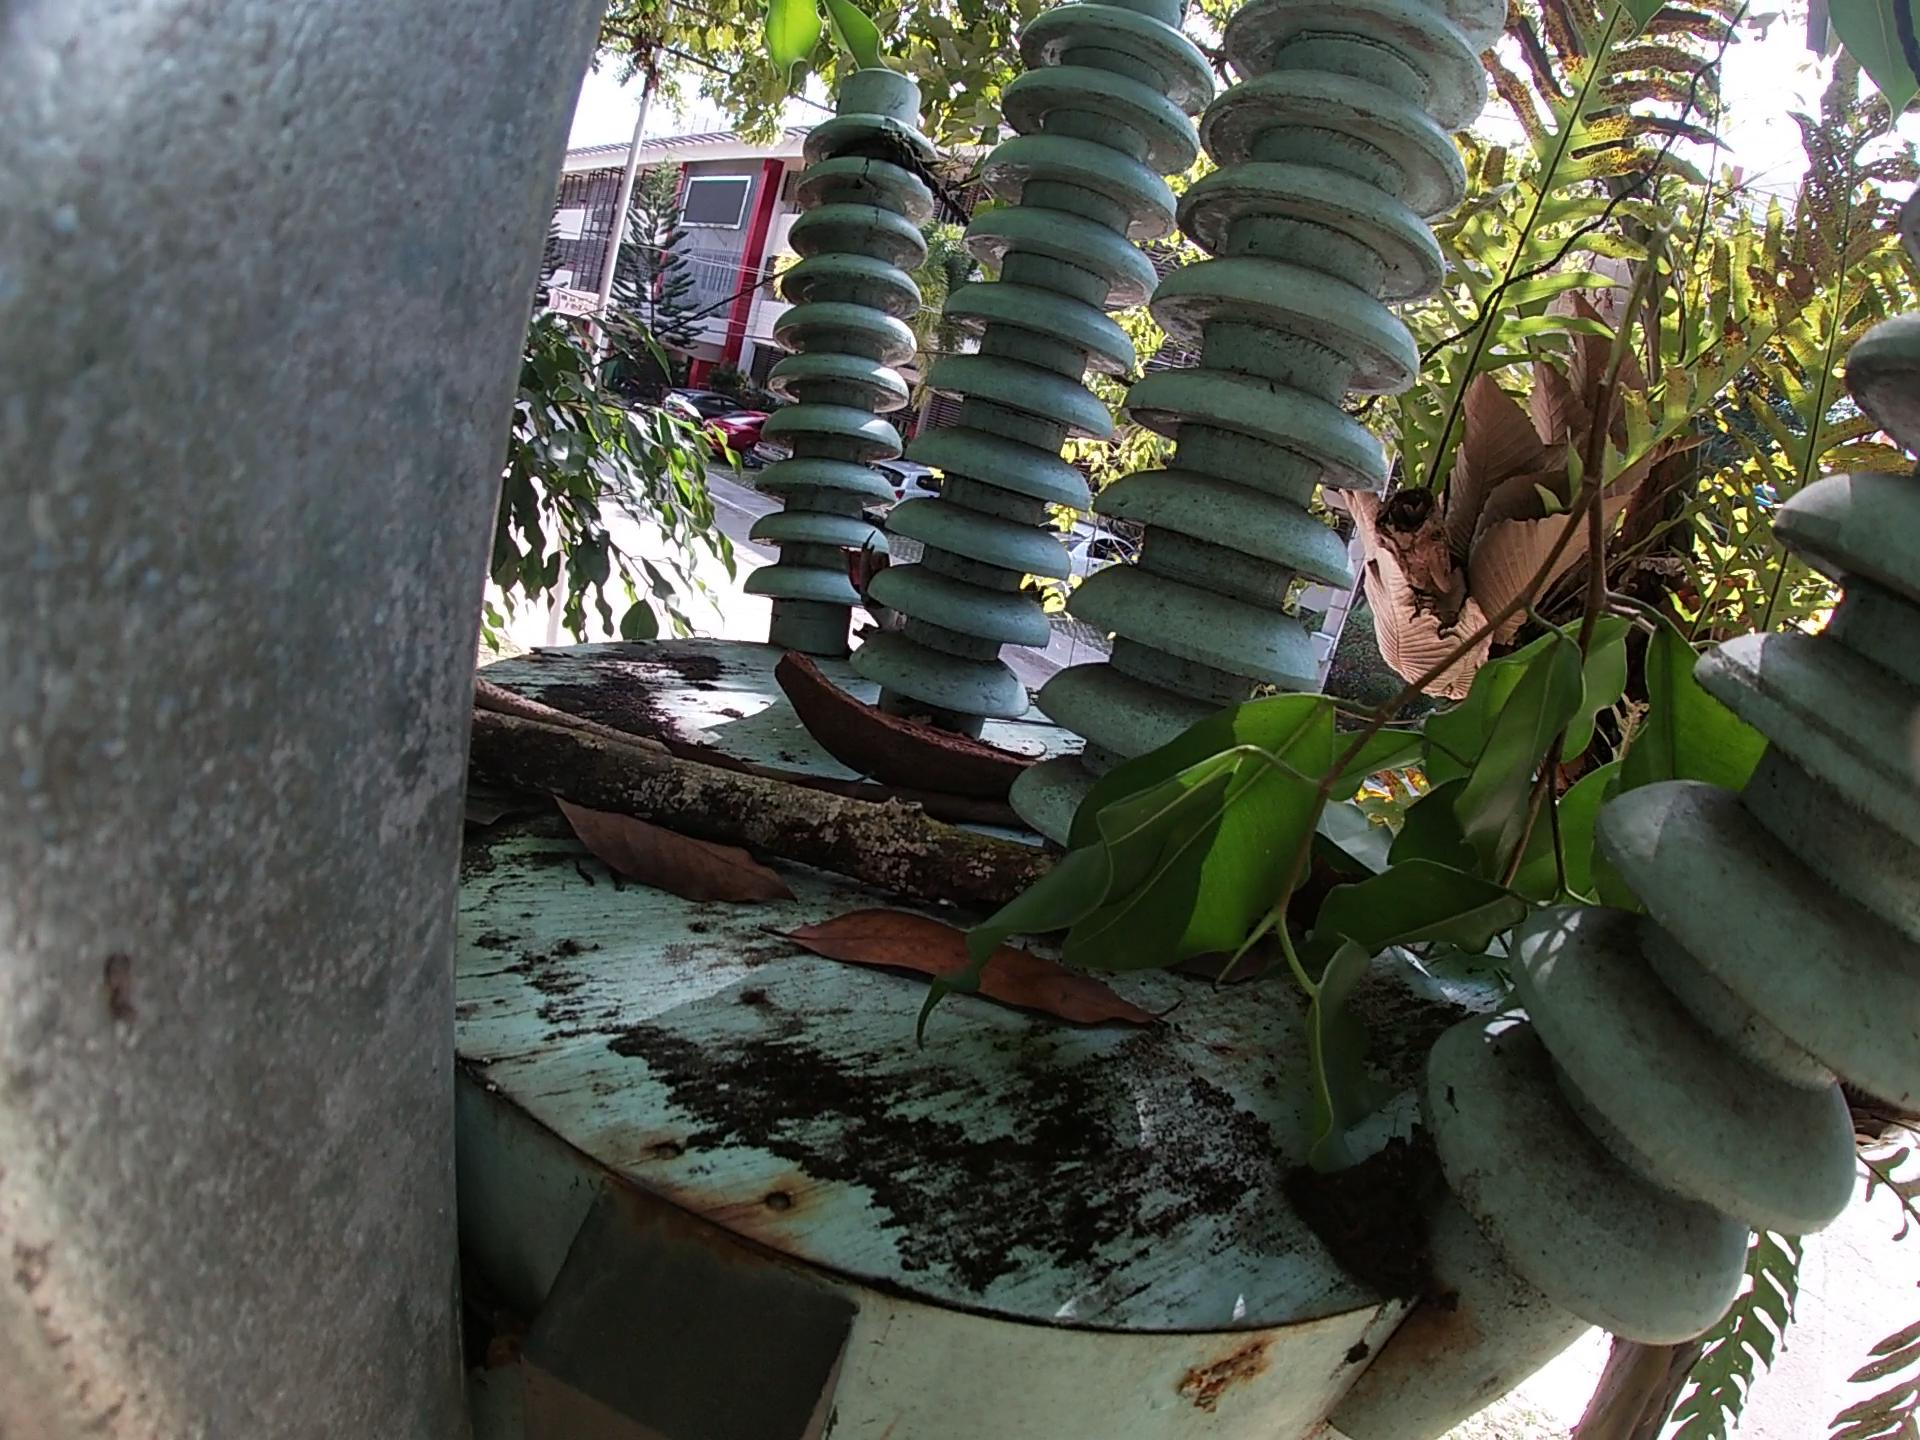branch with leaves: (1111, 334, 1730, 1184)
leaf: (777, 924, 1184, 1045), (526, 815, 801, 914)
mahogany fruit: (763, 637, 1079, 833)
tree branch: (469, 729, 1129, 936), (467, 678, 671, 743)
